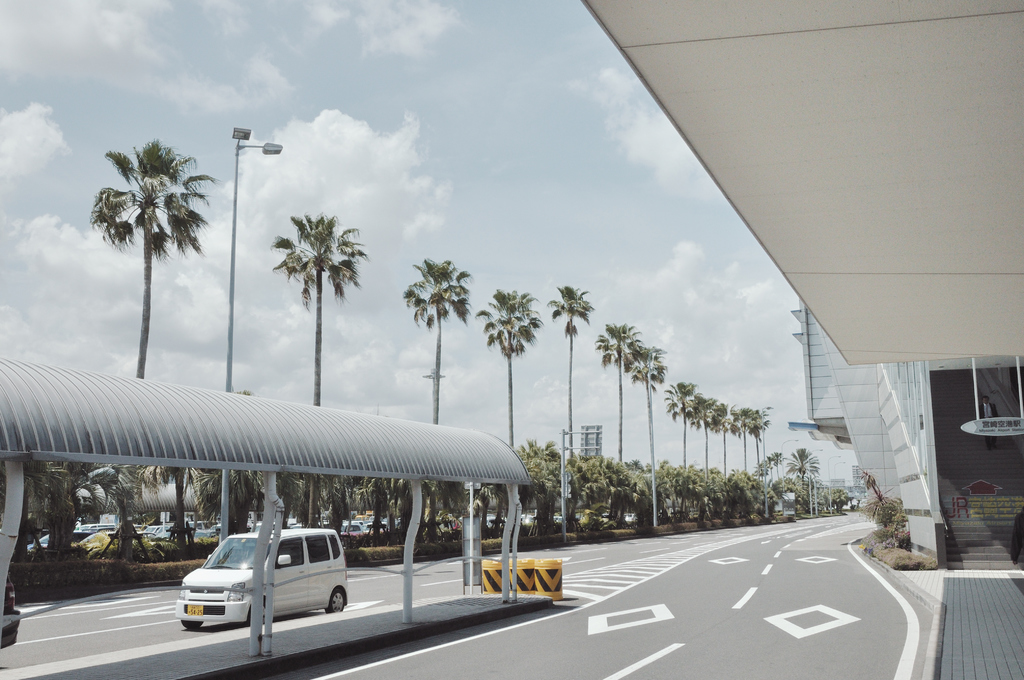Car: (176, 532, 348, 627)
